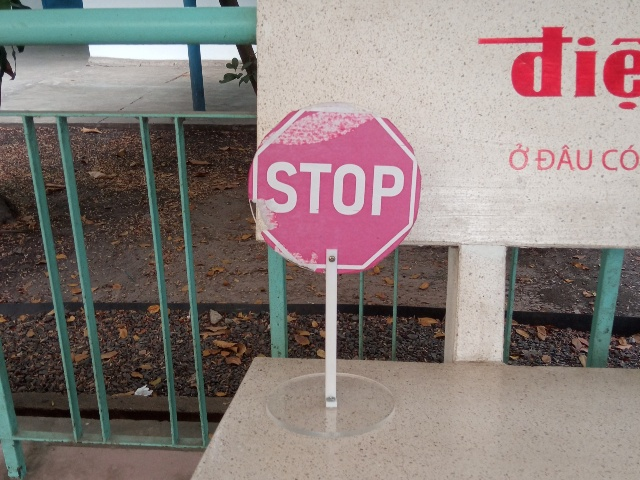Stop_Sign: (247, 100, 422, 275)
